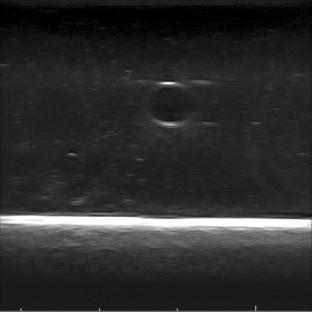vessel: (143, 80, 197, 129)
